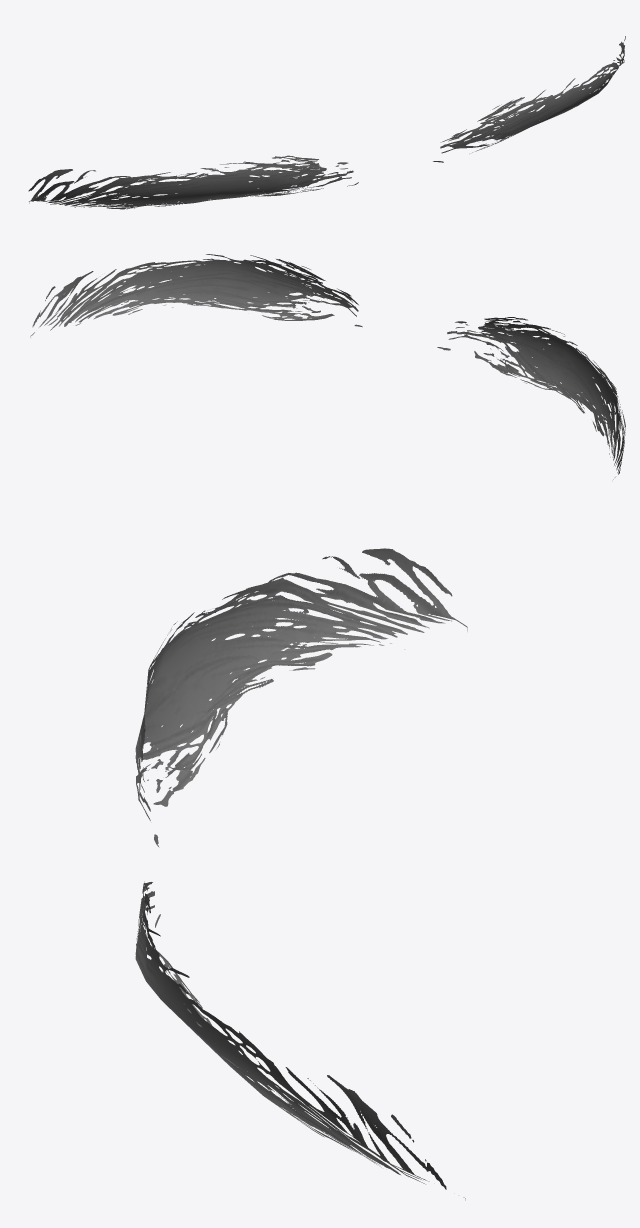
The model's file is brow009.glb.
The picture shows the model from 3 angles, top to bottom: view 1: azimuth 30°, elevation 25°; view 2: azimuth 150°, elevation 25°; view 3: azimuth 270°, elevation 25°; orthographic projection. The views are drawn at different scales.
Visible parts, largest first — view 1: editor_brow009; view 2: editor_brow009; view 3: editor_brow009.
Boxes of the visible parts, <box> form: editor_brow009: <box>28,36,625,209</box>; editor_brow009: <box>30,254,625,479</box>; editor_brow009: <box>135,548,467,1200</box>.
Size of the model in its own units: 0.1178 by 0.0167 by 0.0316.
Materials: 1 (1 with a texture image).
